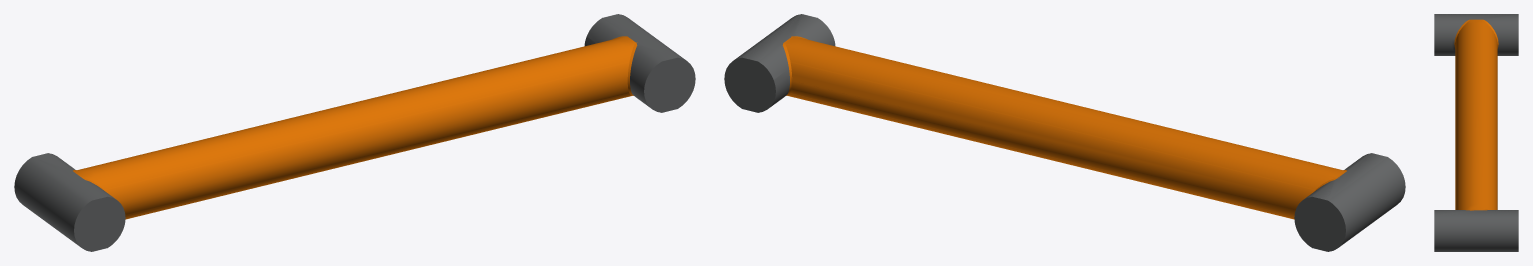
3 renders of one model, left to right at view 1: azimuth 30°, elevation 25°; view 2: azimuth 150°, elevation 25°; view 3: azimuth 270°, elevation 25°, orthographic. The views are drawn at different scales.
Parts seen in each view (by area): view 1: k3_LOD0, k3_col; view 2: k3_LOD0, k3_col; view 3: k3_LOD0, k3_col.
Boxes of the visible parts, bbox=[...] form: k3_LOD0: bbox=[14, 14, 695, 251]; k3_col: bbox=[37, 15, 695, 251]; k3_LOD0: bbox=[724, 14, 1405, 251]; k3_col: bbox=[725, 14, 1387, 250]; k3_LOD0: bbox=[1434, 14, 1518, 251]; k3_col: bbox=[1434, 14, 1518, 215].
Size of what is drawn, in the model's own units: 144 by 11.93 by 24.
